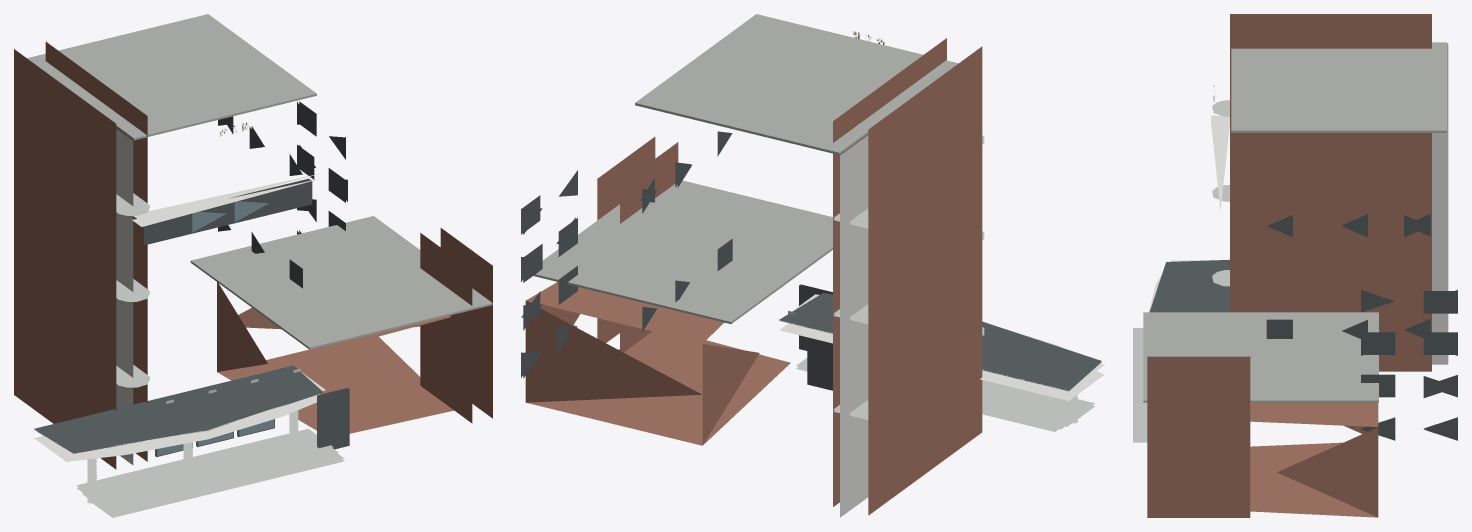
Rendered from buildings-16-far.glb.
3 views of the same model, side by side, from view 1: azimuth 30°, elevation 25°; view 2: azimuth 150°, elevation 25°; view 3: azimuth 270°, elevation 25° (orthographic). The views are drawn at different scales.
Parts seen in each view (by area): view 1: 逸夫楼 · Yifu reddish brown stone.002, 逸夫楼 · Yifu roof membrane.002, 逸夫楼 · Yifu charcoal window frames.002, 逸夫楼 · Yifu ceramic joints.002, 逸夫楼 · Yifu canopy edges.002, 逸夫楼 · Yifu off-white ceramic facade.002, 逸夫楼 · Yifu blue grey glass.002; view 2: 逸夫楼 · Yifu reddish brown stone.002, 逸夫楼 · Yifu roof membrane.002, 逸夫楼 · Yifu charcoal window frames.002, 逸夫楼 · Yifu off-white ceramic facade.002, 逸夫楼 · Yifu ceramic joints.002, 逸夫楼 · Yifu canopy edges.002; view 3: 逸夫楼 · Yifu reddish brown stone.002, 逸夫楼 · Yifu roof membrane.002, 逸夫楼 · Yifu charcoal window frames.002, 逸夫楼 · Yifu off-white ceramic facade.002, 逸夫楼 · Yifu ceramic joints.002, 逸夫楼 · Yifu canopy edges.002.
Boxes of the visible parts, left/top/right/bottom form: 逸夫楼 · Yifu reddish brown stone.002: left=14, top=42, right=492, bottom=469; 逸夫楼 · Yifu roof membrane.002: left=27, top=14, right=492, bottom=349; 逸夫楼 · Yifu charcoal window frames.002: left=34, top=101, right=349, bottom=457; 逸夫楼 · Yifu ceramic joints.002: left=76, top=193, right=344, bottom=517; 逸夫楼 · Yifu canopy edges.002: left=34, top=173, right=325, bottom=461; 逸夫楼 · Yifu off-white ceramic facade.002: left=116, top=129, right=133, bottom=464; 逸夫楼 · Yifu blue grey glass.002: left=157, top=201, right=274, bottom=455; 逸夫楼 · Yifu reddish brown stone.002: left=525, top=38, right=982, bottom=515; 逸夫楼 · Yifu roof membrane.002: left=533, top=14, right=958, bottom=323; 逸夫楼 · Yifu charcoal window frames.002: left=521, top=131, right=1101, bottom=391; 逸夫楼 · Yifu off-white ceramic facade.002: left=840, top=135, right=868, bottom=517; 逸夫楼 · Yifu ceramic joints.002: left=788, top=135, right=1094, bottom=431; 逸夫楼 · Yifu canopy edges.002: left=779, top=294, right=1104, bottom=400; 逸夫楼 · Yifu reddish brown stone.002: left=1147, top=14, right=1431, bottom=517; 逸夫楼 · Yifu roof membrane.002: left=1143, top=42, right=1446, bottom=402; 逸夫楼 · Yifu charcoal window frames.002: left=1149, top=214, right=1457, bottom=440; 逸夫楼 · Yifu off-white ceramic facade.002: left=1432, top=43, right=1448, bottom=364; 逸夫楼 · Yifu ceramic joints.002: left=1133, top=100, right=1229, bottom=442; 逸夫楼 · Yifu canopy edges.002: left=1149, top=115, right=1229, bottom=312.
Bounding box in the file's own units: 30.35 × 24.2 × 20.8.
